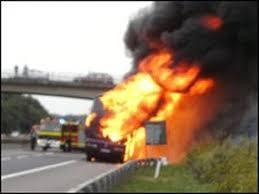fire: (85, 36, 213, 160)
